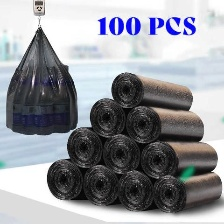plastic_bag: (0, 23, 81, 137), (108, 66, 197, 111), (136, 136, 220, 178), (124, 105, 205, 145), (153, 169, 224, 212), (43, 154, 92, 202), (115, 165, 158, 214), (98, 132, 143, 177), (86, 94, 128, 142), (79, 161, 119, 209), (65, 124, 105, 169)
